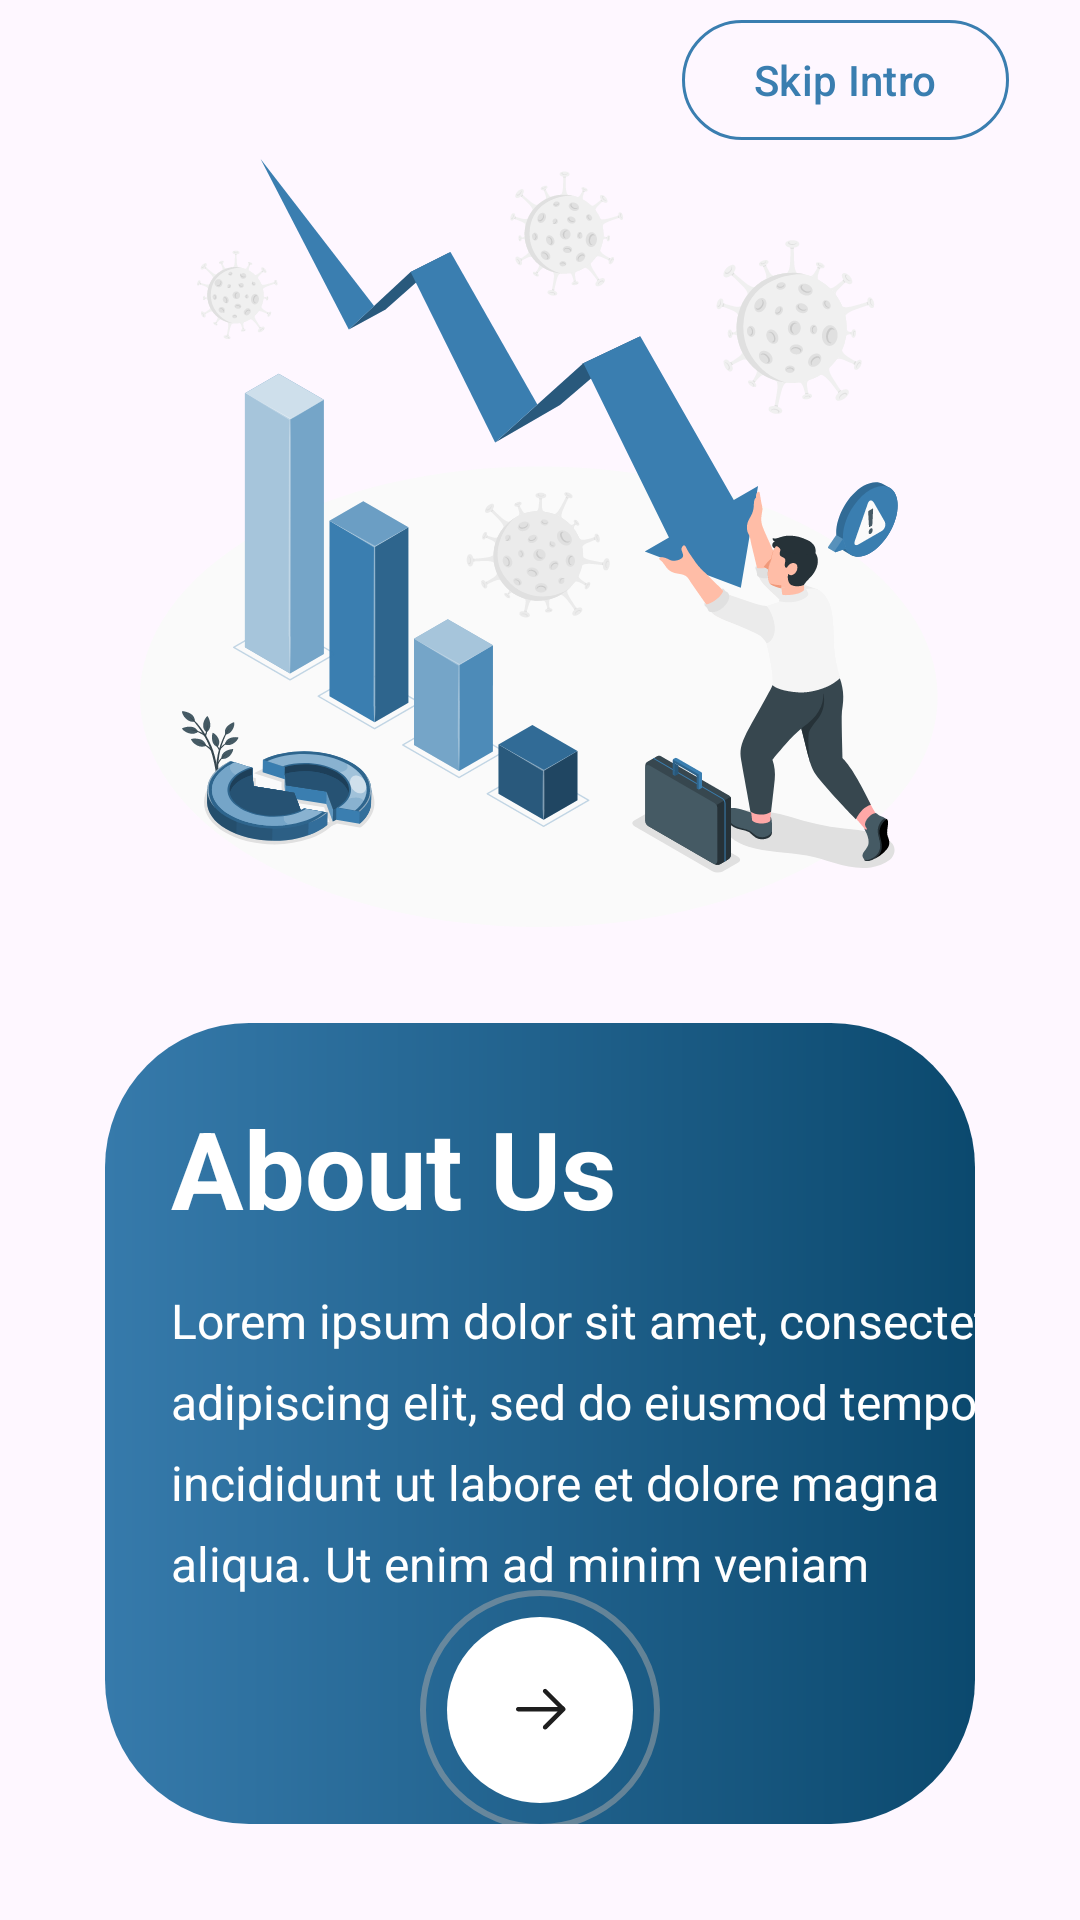

Icon click points for this 1080 x 1920 phone screenshot, format (x,y):
intro arrow: (540,1710)
